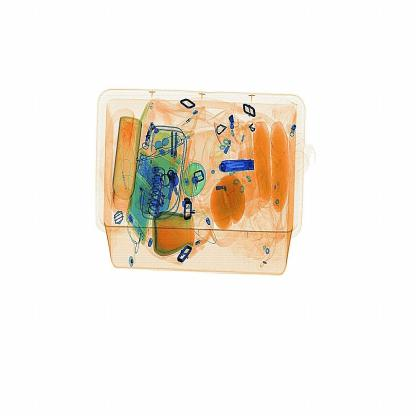knife: (212, 148, 263, 180)
